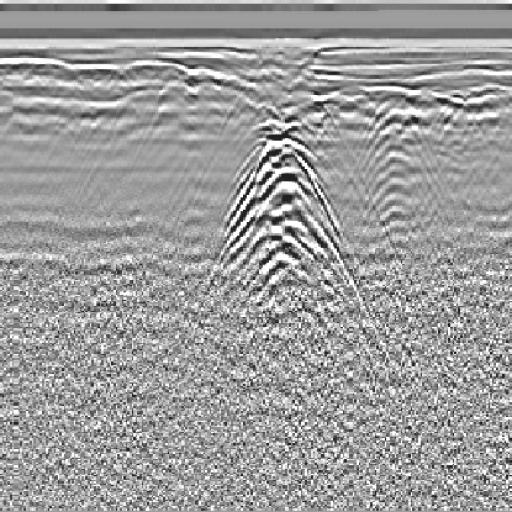metalic: (213, 91, 357, 321)
